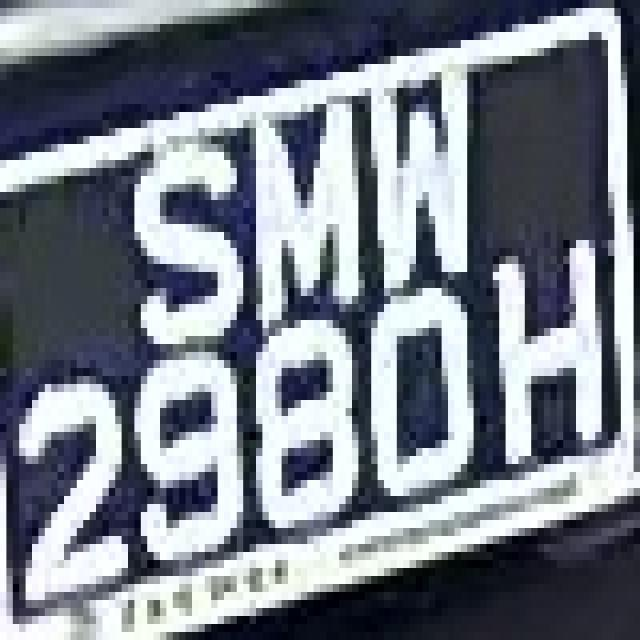0: (365, 264, 480, 512)
2: (0, 352, 134, 624)
8: (250, 304, 364, 536)
9: (122, 336, 250, 568)
H: (474, 232, 614, 480)
M: (237, 72, 365, 328)
S: (108, 104, 250, 360)
W: (352, 32, 474, 296)
